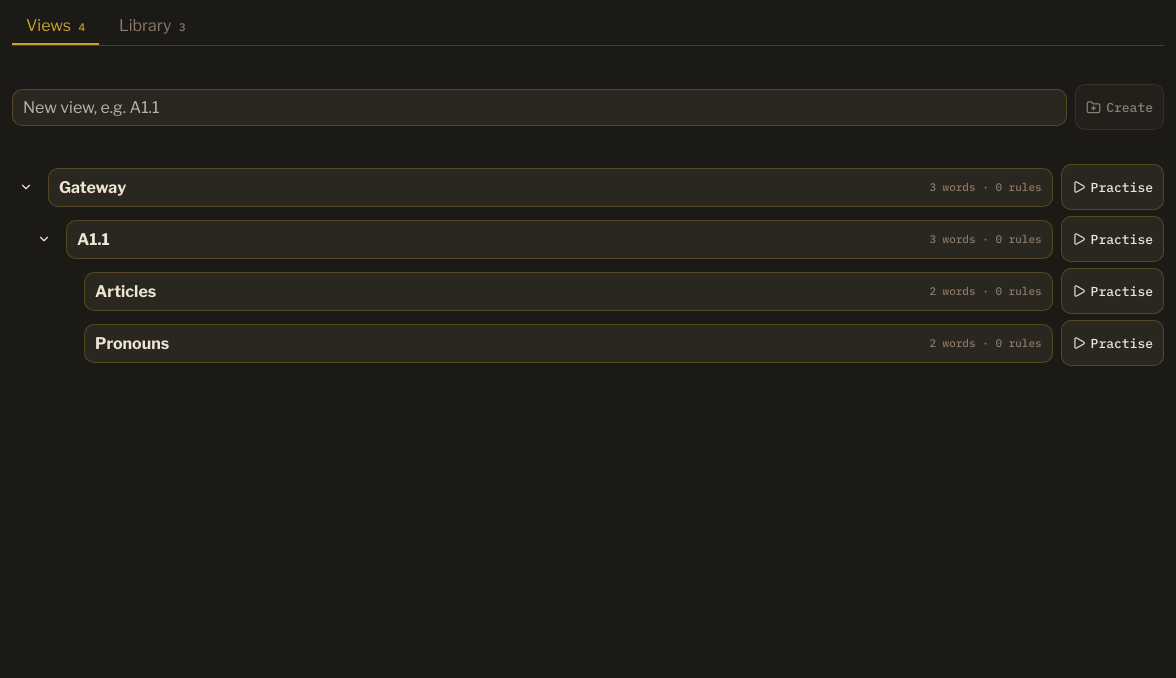
Scenario: LibraryPage › the tree shows each view's whole size, the arrow folds what is inside, and the panel opens under its row
Expected: the 1st text "3 words · 0 rules" is shown, x1=929 y1=180 x2=1042 y2=194
Expected: the 1st text "2 words · 0 rules" is shown, x1=929 y1=284 x2=1042 y2=298
Click the 2nd button with class "lib-fold" at (44, 239), box x1=30 y1=222 x2=58 y2=256
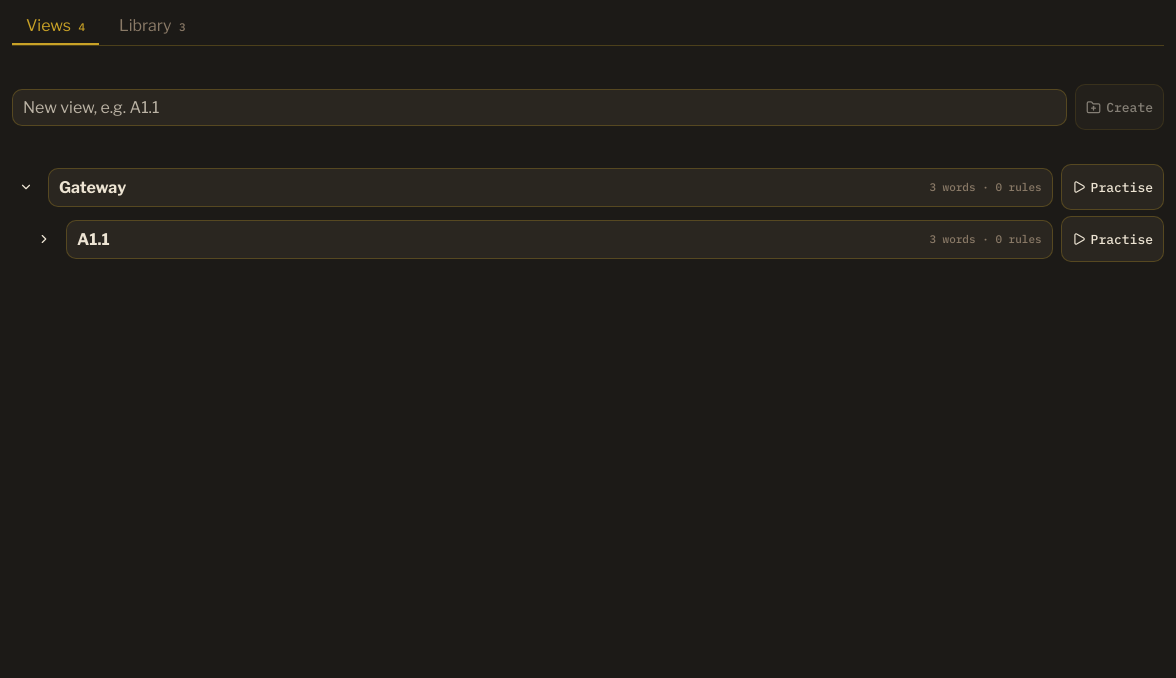
Click the 2nd button with class "lib-fold" at (44, 239), box x1=30 y1=222 x2=58 y2=256
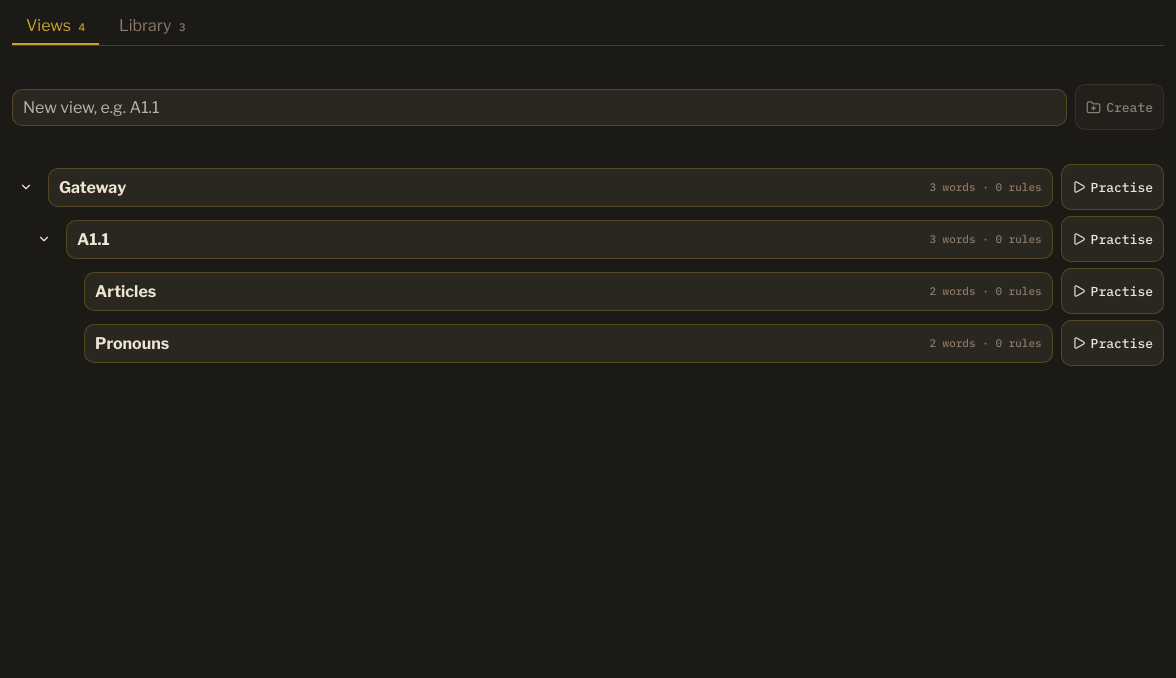
Click the button with class "lib-name" showing "Articles 2 words · 0 rules" at (126, 291), box x1=84 y1=272 x2=1053 y2=310
(page scrolled)
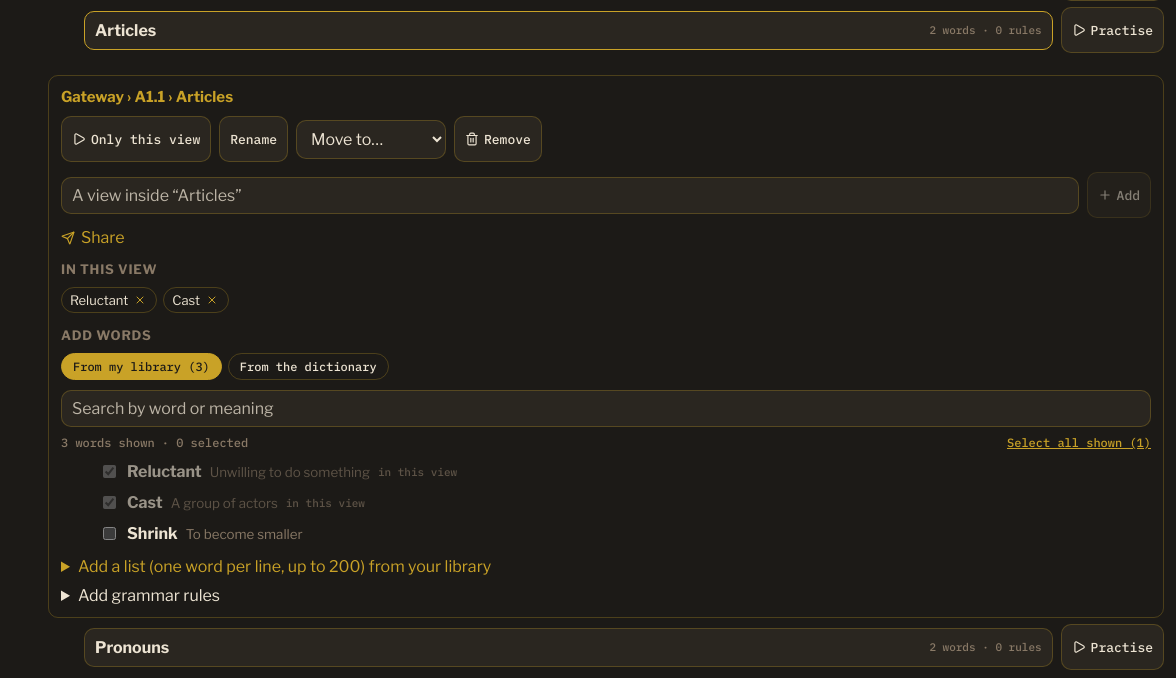
Expected: the element with class "lib-panel" is shown
